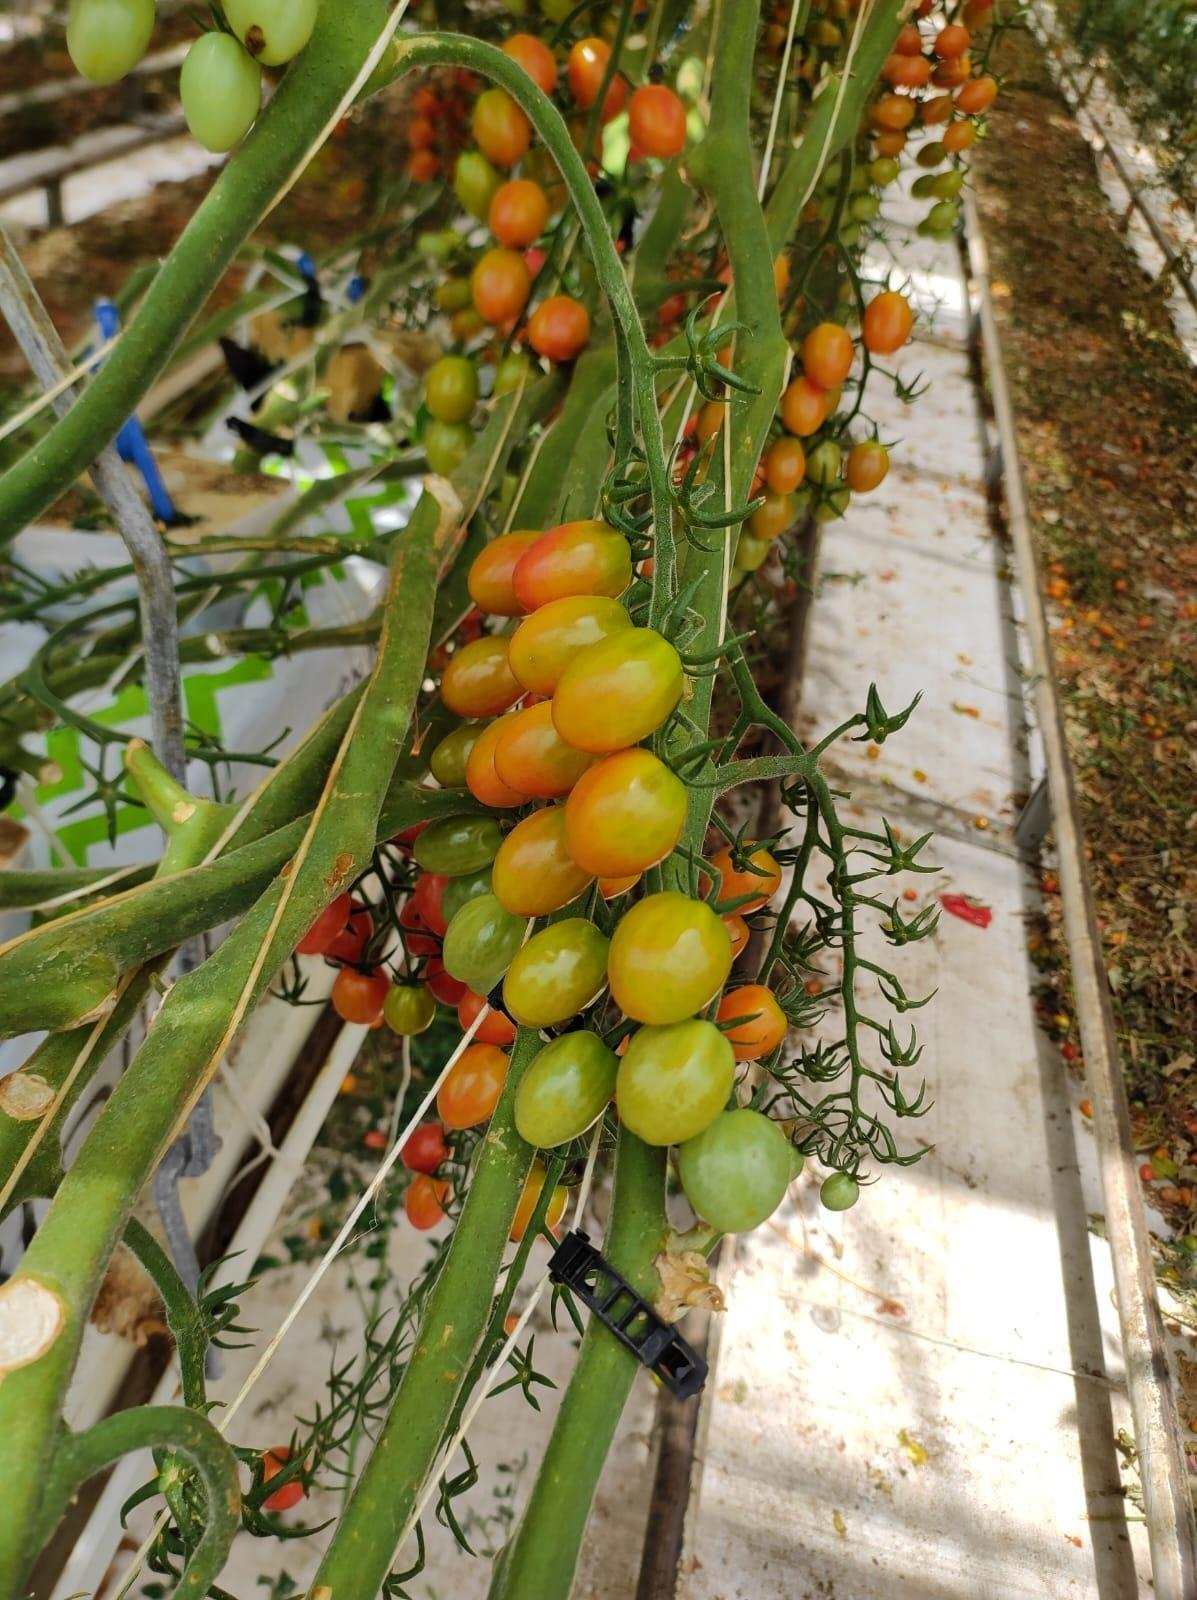Pedunculo rugoso: (0, 488, 465, 1600), (316, 1034, 537, 1600)
Tomate Rugoso: (606, 891, 732, 1026), (553, 628, 684, 753), (566, 747, 688, 879), (616, 1019, 734, 1146), (678, 1110, 791, 1234), (516, 1031, 619, 1150), (509, 597, 631, 696), (503, 919, 610, 1028), (490, 806, 593, 915), (513, 519, 631, 612), (494, 700, 597, 797), (444, 894, 528, 994), (440, 635, 526, 719), (412, 816, 503, 875)
